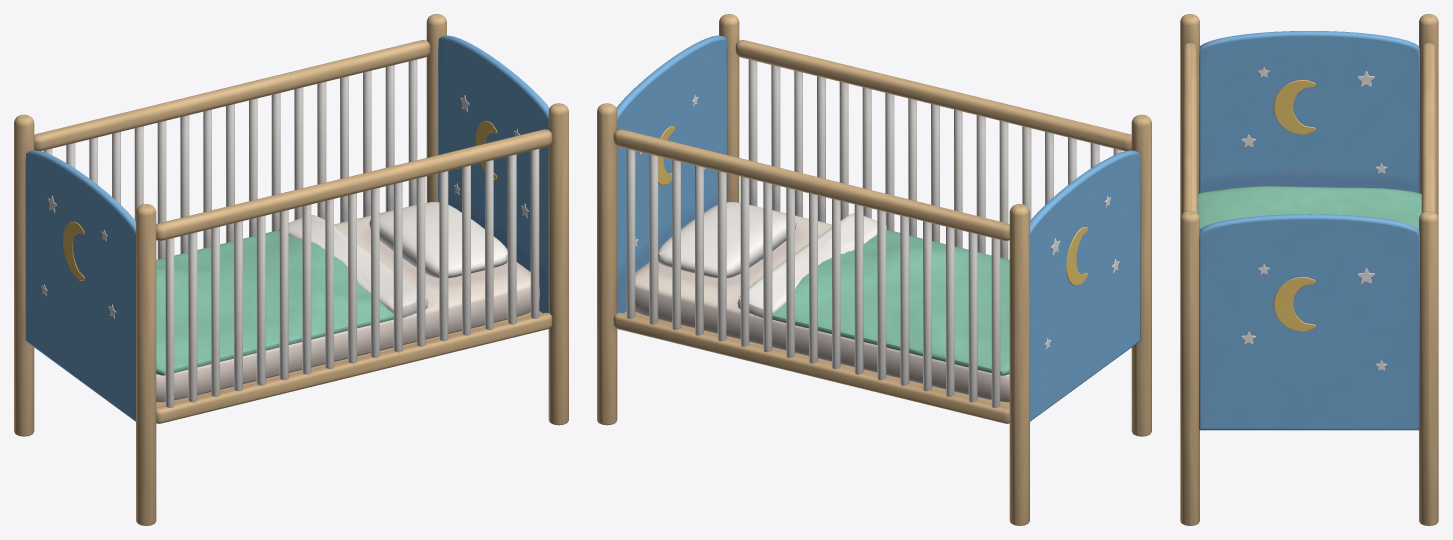
The model's file is gahvarh.glb.
3 renders of one model, left to right at view 1: azimuth 30°, elevation 25°; view 2: azimuth 150°, elevation 25°; view 3: azimuth 270°, elevation 25°, orthographic. The views are drawn at different scales.
Visible parts, largest first — view 1: baby-crib_body; view 2: baby-crib_body; view 3: baby-crib_body.
Boxes of the visible parts, left/top/right/bottom form: baby-crib_body: left=14, top=14, right=568, bottom=525; baby-crib_body: left=597, top=14, right=1151, bottom=525; baby-crib_body: left=1180, top=14, right=1438, bottom=525.
Bounding box in the file's own units: 1.28 × 0.9 × 0.682.
Materials: 1 (1 with a texture image).
